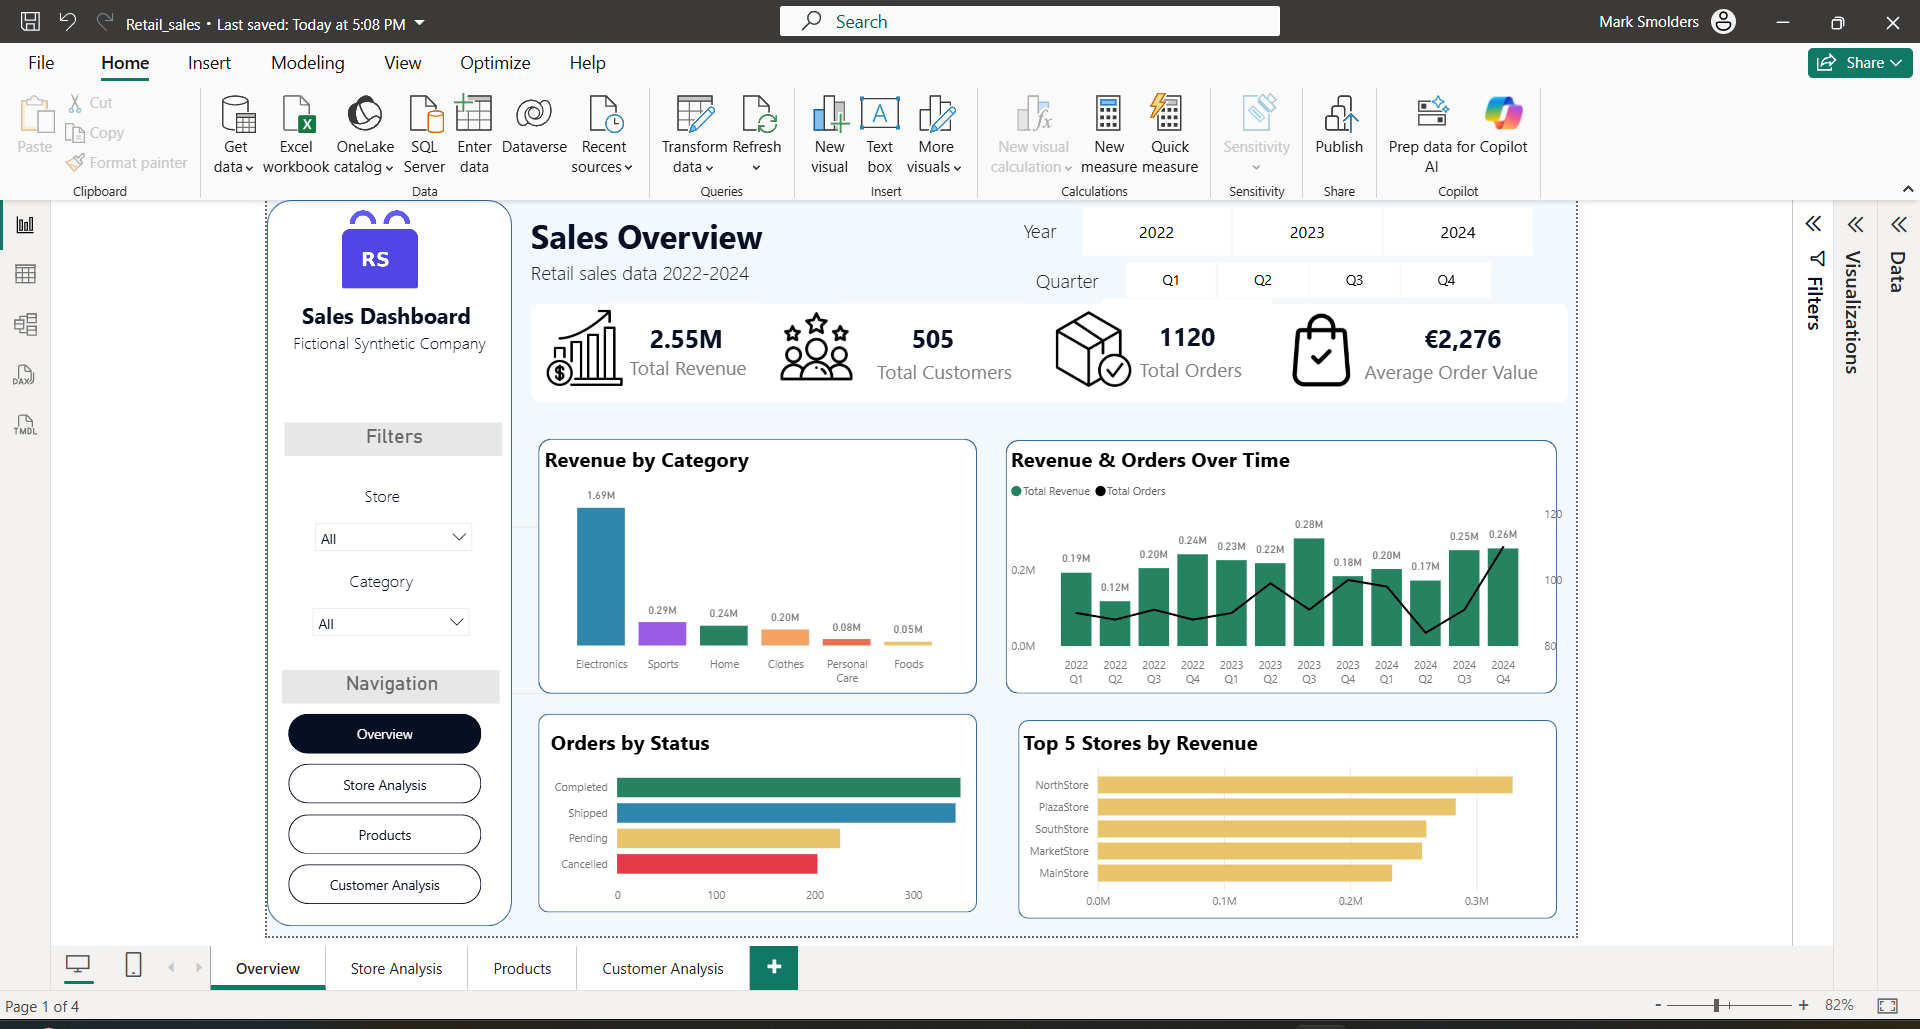

The dashboard page shown, as its layout file describes it:
{"tool":"powerbi","page":{"name":"Overview","canvas":[1280,720],"ordinal":0},"visuals":[{"type":"shape","box":[258,101.5,1015,96.6],"z":0},{"type":"lineChart","fields":{"Y":["Sum(dim_date.year)"]},"box":[0,290,280,280],"z":1000},{"type":"cardVisual","title":"Total Revenuw","fields":{"Data":["fact_order_item.Total Revenue"]},"box":[329.7,96.6,162.6,68.5],"z":1500,"group":"g6"},{"type":"slicer","fields":{"Values":["dim_date.quarter_label"]},"box":[814.4,40.4,407.2,62.4],"z":2000},{"type":"shape","box":[0,0,239.7,710.5],"z":3000},{"type":"slicer","fields":{"Values":["dim_date.year"]},"box":[771.6,0,490.4,61.1],"z":4000},{"type":"cardVisual","title":"Total Revenuw","fields":{"Data":["fact_order_item.Total Orders"]},"box":[812,91.7,176.1,75.8],"z":5000,"group":"g9"},{"type":"cardVisual","title":"Total Revenuw","fields":{"Data":["fact_order_item.Average Order Value"]},"box":[1100.5,105.2,138.2,53.8],"z":5000,"group":"g7"},{"type":"pageNavigator","box":[20.8,502.6,189.5,189.5],"z":5000},{"type":"image","box":[36.7,0,160.2,106.4],"z":6000},{"type":"group","id":"g1","title":"Group 1","box":[20.8,92.9,212.8,181],"z":7000},{"type":"cardVisual","title":"Total Revenuw","fields":{"Data":["fact_order_item.Total Customers"]},"box":[556.4,96.6,190.8,69.7],"z":7000,"group":"g10"},{"type":"group","id":"g2","title":"Group 1","box":[252.7,8.7,339.9,64.8],"z":8000},{"type":"textbox","box":[17.1,217.6,212.8,33],"z":8000,"group":"g13"},{"type":"textbox","box":[14.7,459.7,212.8,33],"z":8000,"group":"g12"},{"type":"group","id":"g3","title":"Group 3","box":[254.6,96.6,237.7,103.9],"z":9000},{"type":"textbox","box":[252.7,8.7,339.9,64.8],"z":10000,"group":"g2"},{"type":"textbox","box":[253.1,53.8,266.6,36.7],"z":10000},{"type":"textbox","box":[29.4,92.9,194.4,61.1],"z":10000,"group":"g1"},{"type":"group","id":"g4","title":"Group 5","box":[490.4,96.6,256.8,107.6],"z":11000},{"type":"group","id":"g5","title":"Group 7","box":[760.6,91.7,227.4,110.1],"z":12000},{"type":"textbox","box":[20.8,123.5,212.8,150.4],"z":12000,"group":"g1"},{"type":"textbox","box":[1068.7,150.4,204.2,53.8],"z":12000,"group":"g7"},{"type":"textbox","box":[90.5,272.7,66,33],"z":12000,"group":"g8"},{"type":"textbox","box":[75.8,355.8,88,33],"z":12000,"group":"g11"},{"type":"group","id":"g6","title":"Group 2","box":[329.7,96.6,162.6,103.9],"z":13000,"group":"g3"},{"type":"group","id":"g7","title":"Group 8","box":[975.8,105.2,297.1,99],"z":13000},{"type":"textbox","box":[848.7,148,139.4,53.8],"z":13000,"group":"g9"},{"type":"textbox","box":[350.7,147,139.4,53.8],"z":13001,"group":"g6"},{"type":"textbox","box":[591.9,150.4,155.3,53.8],"z":13001,"group":"g10"},{"type":"image","box":[254.6,102.2,112.5,84.4],"z":14000,"group":"g3"},{"type":"group","id":"g8","title":"Group 9","box":[36.7,272.7,173.6,83.2],"z":14000},{"type":"group","id":"g9","title":"Group 6","box":[812,91.7,176.1,110.1],"z":14001,"group":"g5"},{"type":"image","box":[760.6,100.3,96.6,91.7],"z":14501,"group":"g5"},{"type":"image","box":[975.8,106.4,111.3,80.7],"z":14503,"group":"g7"},{"type":"slicer","fields":{"Values":["dim_store.store_name"]},"box":[36.7,305.7,173.6,50.1],"z":14505,"group":"g8"},{"type":"slicer","fields":{"Values":["dim_product.category"]},"box":[34.2,388.8,173.6,50.1],"z":14505,"group":"g11"},{"type":"textbox","box":[58.7,215.2,132.1,35.5],"z":14509,"group":"g13"},{"type":"textbox","box":[56.3,457.3,132.1,35.5],"z":14509,"group":"g12"},{"type":"group","id":"g10","title":"Group 4","box":[556.4,96.6,190.8,107.6],"z":15000,"group":"g4"},{"type":"group","id":"g11","title":"Group 10","box":[34.2,355.8,173.6,83.2],"z":15000},{"type":"image","box":[490.4,102.7,94.2,80.7],"z":16000,"group":"g4"},{"type":"group","id":"g12","title":"Group 11","box":[14.7,457.3,212.8,35.5],"z":16000},{"type":"group","id":"g13","title":"Group 11","box":[17.1,215.2,212.8,35.5],"z":17000},{"type":"textbox","box":[734.9,12.2,51.4,36.7],"z":18000},{"type":"shape","box":[265.4,233.6,429.2,249.5],"z":18500},{"type":"textbox","box":[747.2,61.1,90.5,36.7],"z":19000},{"type":"columnChart","title":"Revenue by Category","fields":{"Category":["dim_product.category"],"Y":["fact_order_item.Total Revenue"]},"box":[266.6,239.7,414.5,243.3],"z":20000},{"type":"shape","box":[734.9,508.7,527,194.4],"z":20500},{"type":"barChart","title":"Top 5 Stores by Revenue","fields":{"Category":["dim_store.store_name"],"Y":["fact_order_item.Total Revenue"]},"box":[734.9,516,527,187.1],"z":21000},{"type":"shape","box":[265.4,502.6,429.2,194.4],"z":21500},{"type":"barChart","title":"Orders by Status","fields":{"Category":["fact_order_item.status"],"Y":["fact_order_item.Total Orders"]},"box":[272.7,516,421.9,181],"z":22000},{"type":"shape","box":[722.7,234.8,539.3,248.2],"z":23000},{"type":"lineStackedColumnComboChart","title":"Revenue & Orders Over Time","fields":{"Y":["fact_order_item.Total Revenue"],"Y2":["fact_order_item.Total Orders"],"Category":["dim_date.year","dim_date.quarter_label"]},"box":[722.7,239.7,550.3,243.3],"z":24000}]}

Visuals, with their boxes on the page's 1280x720 design canvas (x1, y1, x2, y2). These are canvas units, not pixel positions in the 1920x1029 screenshot, which may show the page scaled, cropped or inside an application window:
shape: x1=258, y1=102, x2=1273, y2=198
lineChart - Sum(dim_date.year): x1=0, y1=290, x2=280, y2=570
"Total Revenuw" cardVisual: x1=330, y1=97, x2=492, y2=165
slicer - dim_date.quarter_label: x1=814, y1=40, x2=1222, y2=103
shape: x1=0, y1=0, x2=240, y2=710
slicer - dim_date.year: x1=772, y1=0, x2=1262, y2=61
"Total Revenuw" cardVisual: x1=812, y1=92, x2=988, y2=168
"Total Revenuw" cardVisual: x1=1100, y1=105, x2=1239, y2=159
pageNavigator: x1=21, y1=503, x2=210, y2=692
image: x1=37, y1=0, x2=197, y2=106
"Group 1" group: x1=21, y1=93, x2=234, y2=274
"Total Revenuw" cardVisual: x1=556, y1=97, x2=747, y2=166
"Group 1" group: x1=253, y1=9, x2=593, y2=74
textbox: x1=17, y1=218, x2=230, y2=251
textbox: x1=15, y1=460, x2=228, y2=493
"Group 3" group: x1=255, y1=97, x2=492, y2=200
textbox: x1=253, y1=9, x2=593, y2=74
textbox: x1=253, y1=54, x2=520, y2=90
textbox: x1=29, y1=93, x2=224, y2=154
"Group 5" group: x1=490, y1=97, x2=747, y2=204
"Group 7" group: x1=761, y1=92, x2=988, y2=202
textbox: x1=21, y1=124, x2=234, y2=274
textbox: x1=1069, y1=150, x2=1273, y2=204
textbox: x1=90, y1=273, x2=156, y2=306
textbox: x1=76, y1=356, x2=164, y2=389
"Group 2" group: x1=330, y1=97, x2=492, y2=200
"Group 8" group: x1=976, y1=105, x2=1273, y2=204
textbox: x1=849, y1=148, x2=988, y2=202
textbox: x1=351, y1=147, x2=490, y2=201
textbox: x1=592, y1=150, x2=747, y2=204
image: x1=255, y1=102, x2=367, y2=187
"Group 9" group: x1=37, y1=273, x2=210, y2=356
"Group 6" group: x1=812, y1=92, x2=988, y2=202
image: x1=761, y1=100, x2=857, y2=192
image: x1=976, y1=106, x2=1087, y2=187
slicer - dim_store.store_name: x1=37, y1=306, x2=210, y2=356
slicer - dim_product.category: x1=34, y1=389, x2=208, y2=439
textbox: x1=59, y1=215, x2=191, y2=251
textbox: x1=56, y1=457, x2=188, y2=493
"Group 4" group: x1=556, y1=97, x2=747, y2=204
"Group 10" group: x1=34, y1=356, x2=208, y2=439
image: x1=490, y1=103, x2=585, y2=183
"Group 11" group: x1=15, y1=457, x2=228, y2=493
"Group 11" group: x1=17, y1=215, x2=230, y2=251
textbox: x1=735, y1=12, x2=786, y2=49
shape: x1=265, y1=234, x2=695, y2=483
textbox: x1=747, y1=61, x2=838, y2=98
"Revenue by Category" columnChart: x1=267, y1=240, x2=681, y2=483
shape: x1=735, y1=509, x2=1262, y2=703
"Top 5 Stores by Revenue" barChart: x1=735, y1=516, x2=1262, y2=703
shape: x1=265, y1=503, x2=695, y2=697
"Orders by Status" barChart: x1=273, y1=516, x2=695, y2=697
shape: x1=723, y1=235, x2=1262, y2=483
"Revenue & Orders Over Time" lineStackedColumnComboChart: x1=723, y1=240, x2=1273, y2=483
